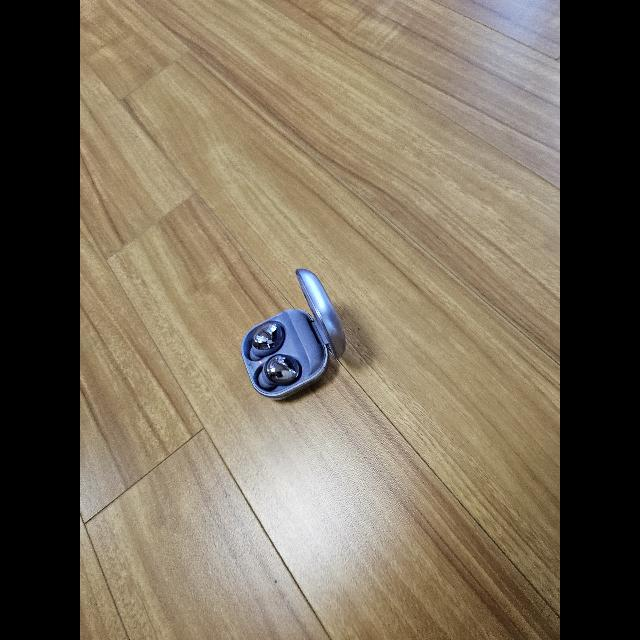buds-pro: (238, 268, 348, 402)
